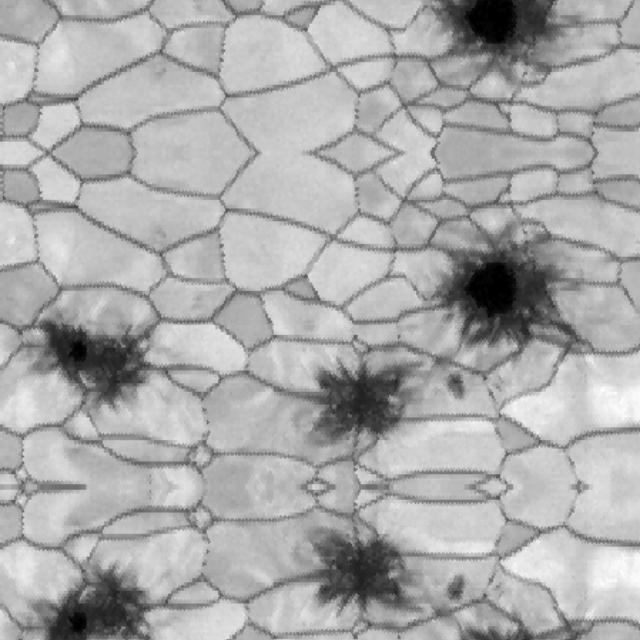good_void: (437, 246, 576, 359), (309, 337, 426, 455), (309, 521, 426, 639), (28, 316, 159, 412), (28, 564, 159, 640), (437, 0, 572, 60), (438, 370, 469, 400), (438, 576, 469, 606), (491, 374, 511, 395), (491, 581, 511, 602), (517, 225, 532, 239), (517, 67, 532, 81), (393, 332, 406, 342), (393, 634, 406, 640)
